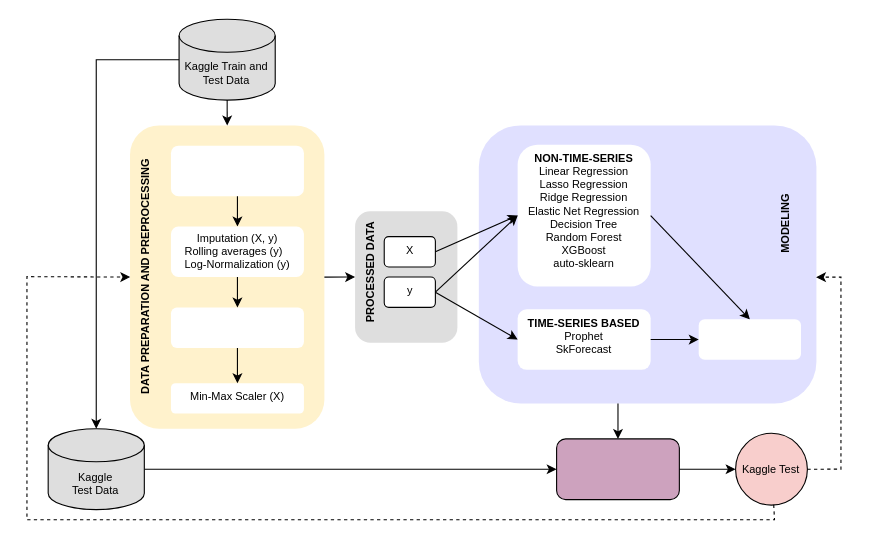
The diagram is 869 pixels wide and 548 high, and some of its shapes have lost their labels. Each missing label, with the centre of its shape:
"Ensemble of Best Models" goes at pixel 749 339.
"Extracting Data starting from May 1st 2022" goes at pixel 236 170.
"Predictons" goes at pixel 617 469.
"Train-Val Split (80-20)" goes at pixel 236 327.
